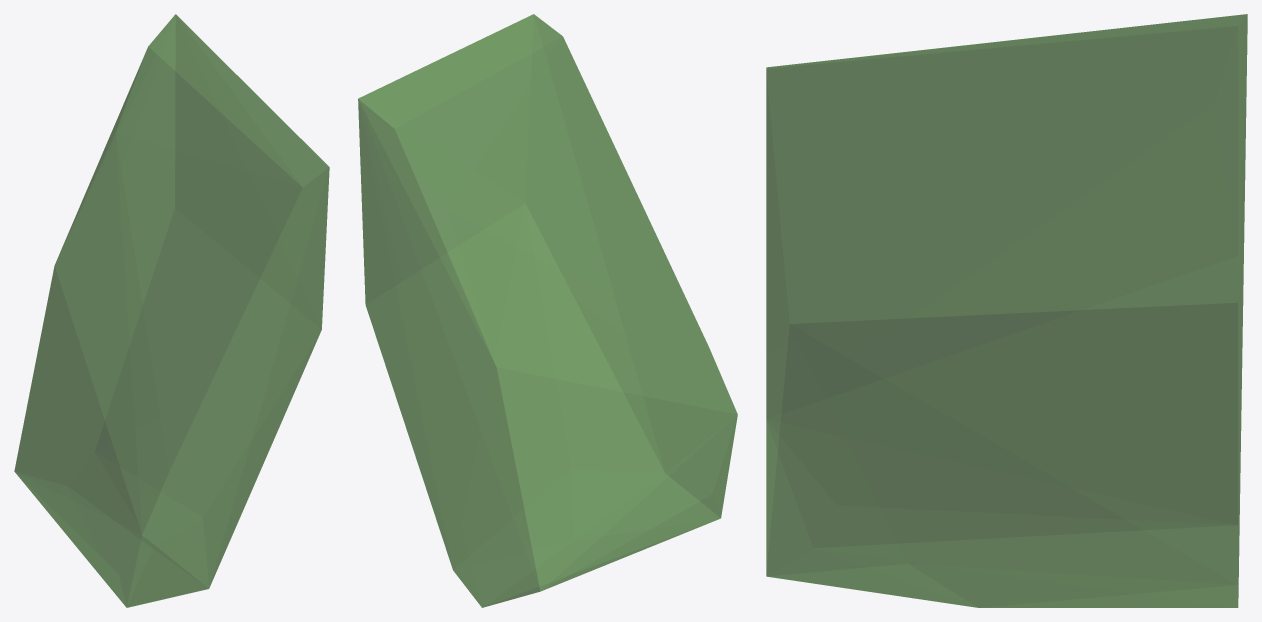
3 renders of one model, left to right at view 1: azimuth 30°, elevation 25°; view 2: azimuth 150°, elevation 25°; view 3: azimuth 270°, elevation 25°, orthographic. The views are drawn at different scales.
Visible parts, largest first — view 1: Shape_IndexedFaceSet.055_Shape_IndexedFaceSet.4401; view 2: Shape_IndexedFaceSet.055_Shape_IndexedFaceSet.4401; view 3: Shape_IndexedFaceSet.055_Shape_IndexedFaceSet.4401.
Boxes of the visible parts, box(x1,y1,x2,y2) form: Shape_IndexedFaceSet.055_Shape_IndexedFaceSet.4401: box(14, 14, 329, 607); Shape_IndexedFaceSet.055_Shape_IndexedFaceSet.4401: box(358, 14, 737, 607); Shape_IndexedFaceSet.055_Shape_IndexedFaceSet.4401: box(766, 14, 1247, 607).
Bounding box in the file's own units: 0.0913 × 0.2021 × 0.1304.
